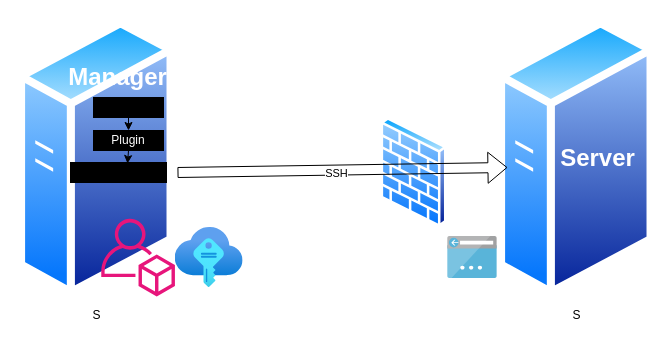
The diagram is 672 pixels wide and 340 high, and some of its shapes have lost their labels. Here are the shapes that lost their labels. From the top down, the centre of each, then its label:
At point (128, 107): "Blueprint".
At point (118, 172): "ansible-playbook".
